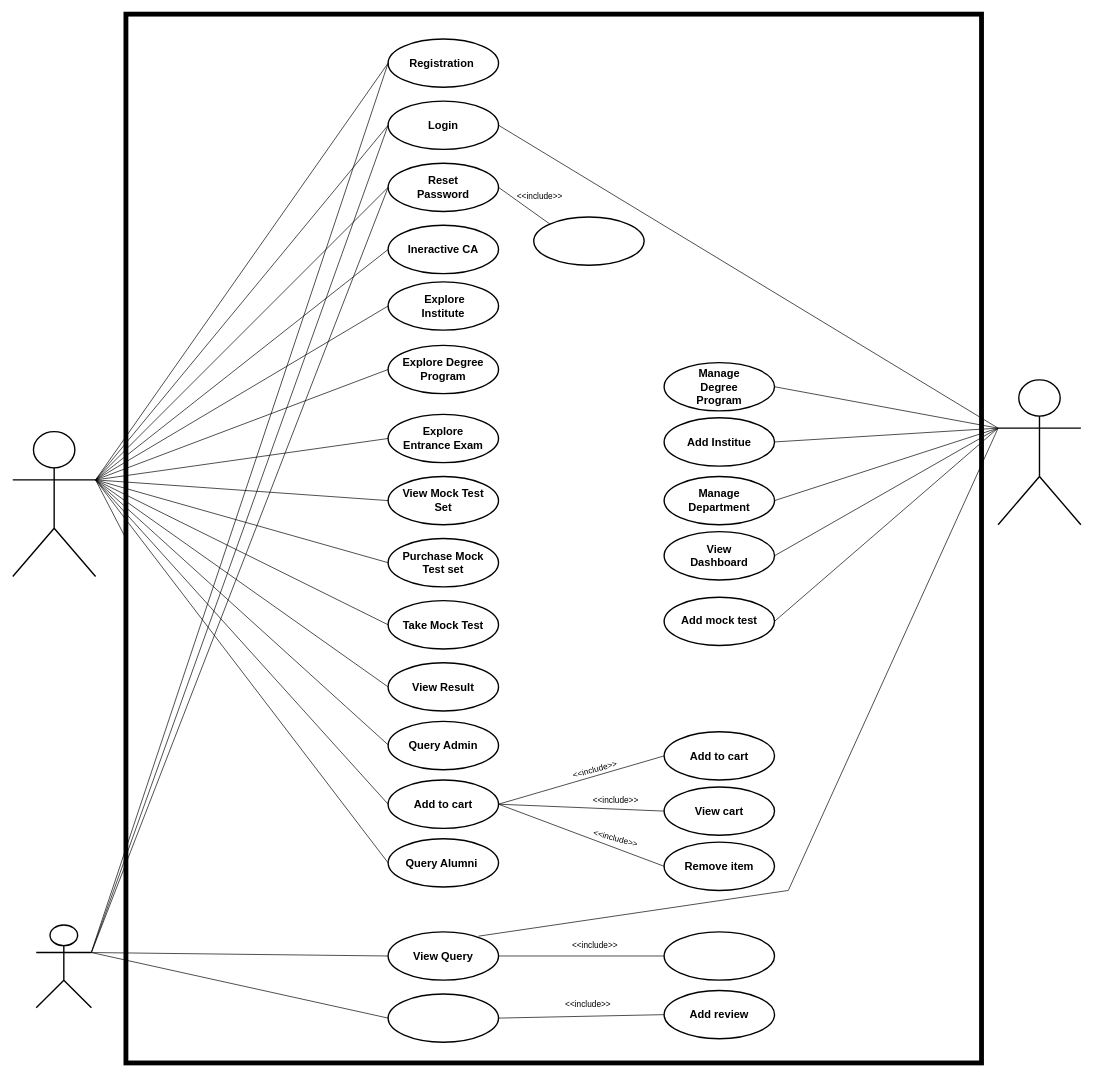
Some shapes in this 1093 by 1077 pixel diagram are drawn without their labels. The box of each missing label's shape, as (x1, y1, x2, y2) in pixels:
Admin: (997, 379, 1081, 525)
Alumni: (35, 924, 92, 1008)
Reponse Query via mail: (663, 931, 775, 980)
Review to Institue: (387, 993, 499, 1043)
Send Otp via mail: (533, 216, 644, 266)
User: (12, 431, 96, 577)
